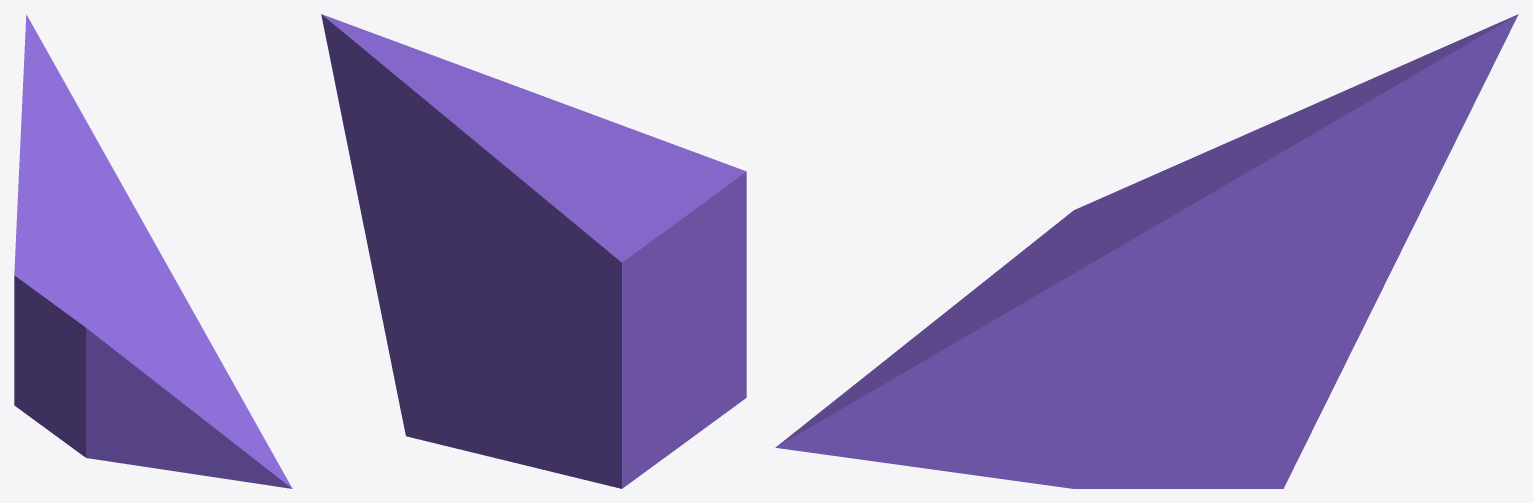
The model's file is icone6.glb.
3 renders of one model, left to right at view 1: azimuth 30°, elevation 25°; view 2: azimuth 150°, elevation 25°; view 3: azimuth 270°, elevation 25°, orthographic. The views are drawn at different scales.
Parts seen in each view (by area): view 1: Cube; view 2: Cube; view 3: Cube.
Boxes of the visible parts, x1=… form: Cube: x1=14, y1=14, x2=292, y2=488; Cube: x1=321, y1=14, x2=746, y2=488; Cube: x1=775, y1=14, x2=1518, y2=488.
Size of the model in its own units: 2 by 4.76 by 7.09.
